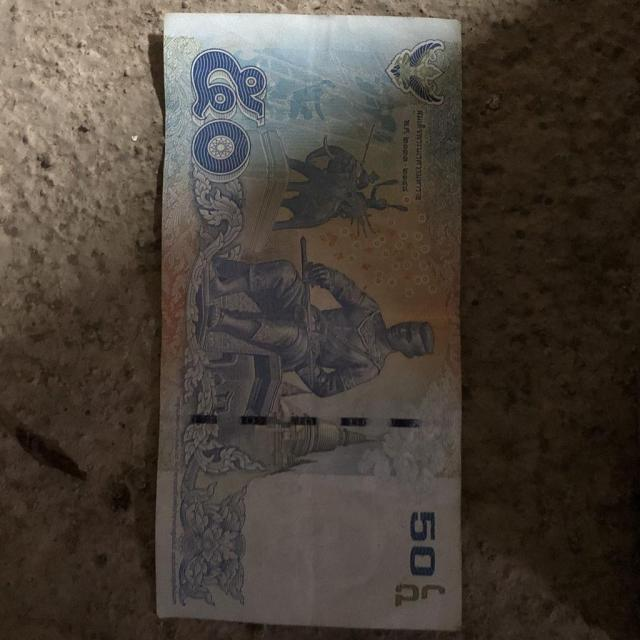THAI50: (156, 14, 461, 629)
